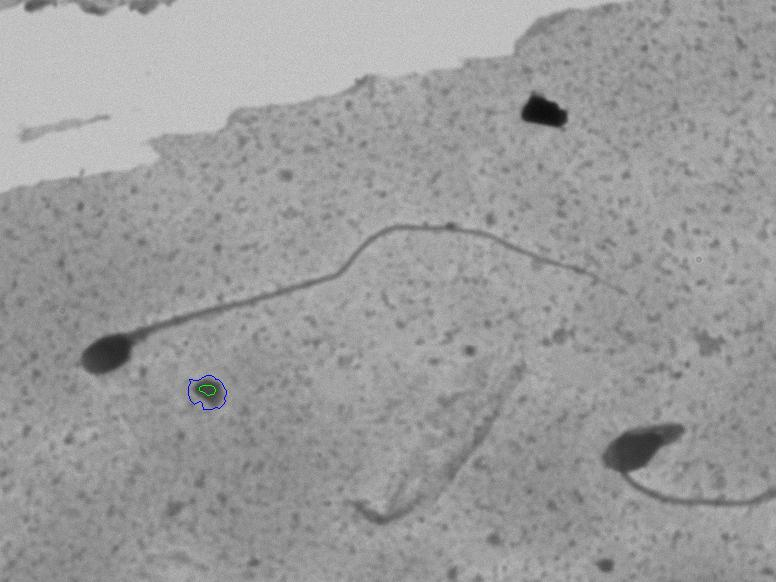Abnormal: (591, 384, 769, 531)
Normal: (55, 182, 658, 391)
